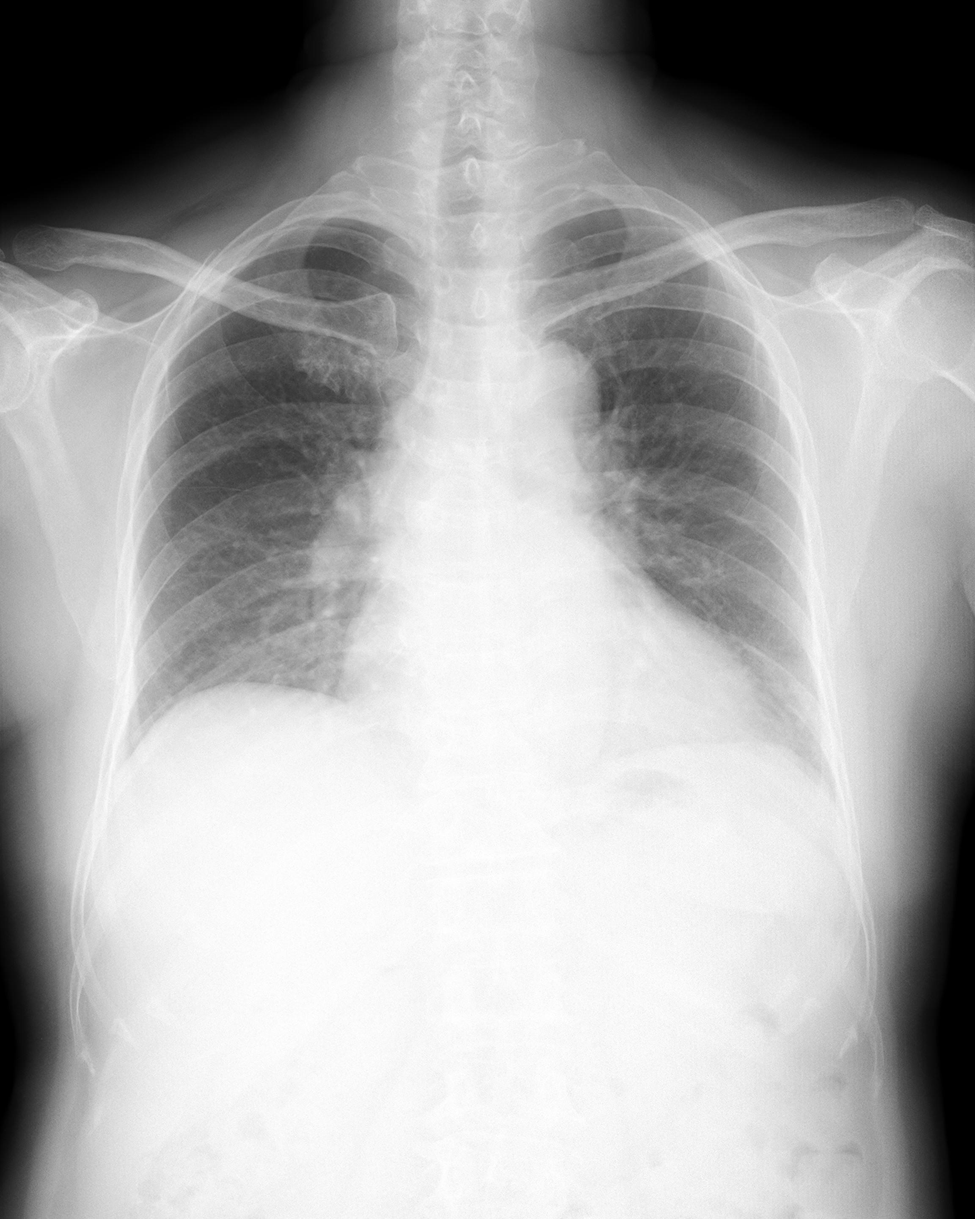Aortic enlargement: (476, 339, 603, 467)
Cardiomegaly: (332, 610, 759, 763)
Pleural thickening: (266, 212, 383, 238)
